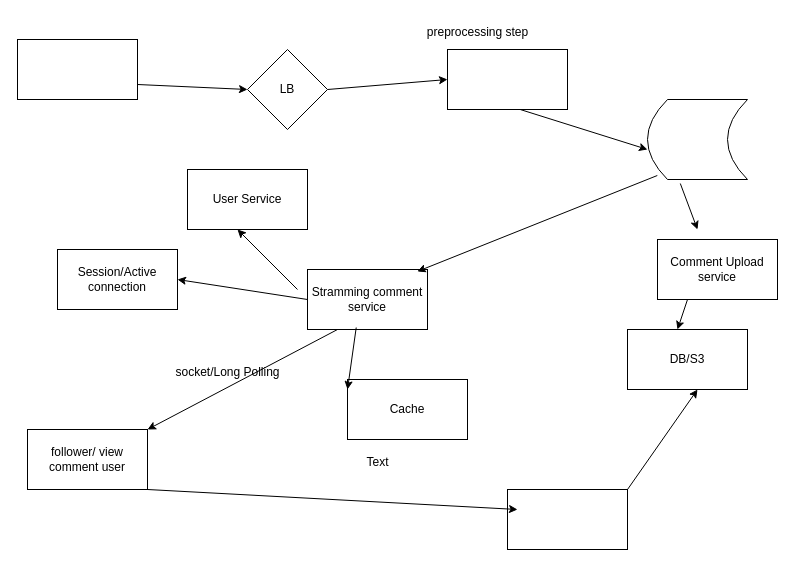
This 795x567 diagram has some shape labels left out. The shapes that lost their labels are listed below. From the top down, each one's centre as x and y in pixels, then its label:
[77,69]: User A/ adding comment user
[507,79]: Add comment service
[697,139]: Queue
[567,519]: View comment service
